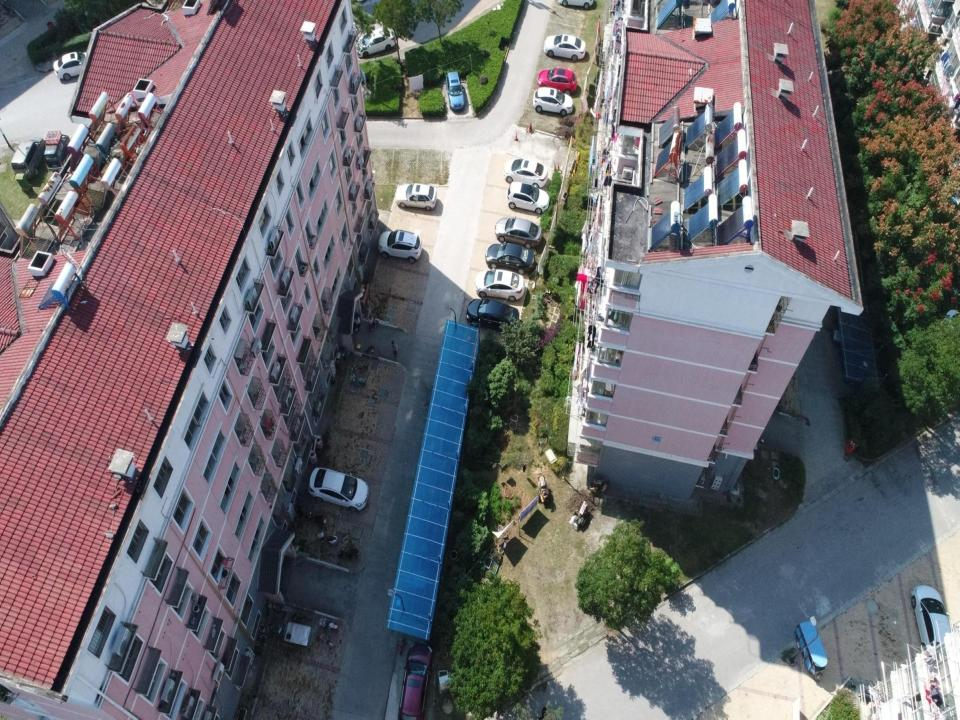car: (910, 584, 953, 673), (308, 467, 369, 511), (398, 642, 432, 720), (485, 241, 535, 275), (475, 268, 525, 302), (466, 299, 519, 331), (495, 217, 542, 249), (378, 230, 422, 263), (53, 51, 101, 81), (503, 158, 548, 190), (506, 182, 549, 214), (395, 182, 437, 211), (356, 28, 396, 58), (544, 34, 586, 62), (537, 67, 577, 96), (533, 87, 573, 116), (445, 72, 465, 112)
van: (12, 137, 44, 180), (45, 134, 70, 172)
